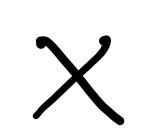mult: (32, 35, 126, 125)
